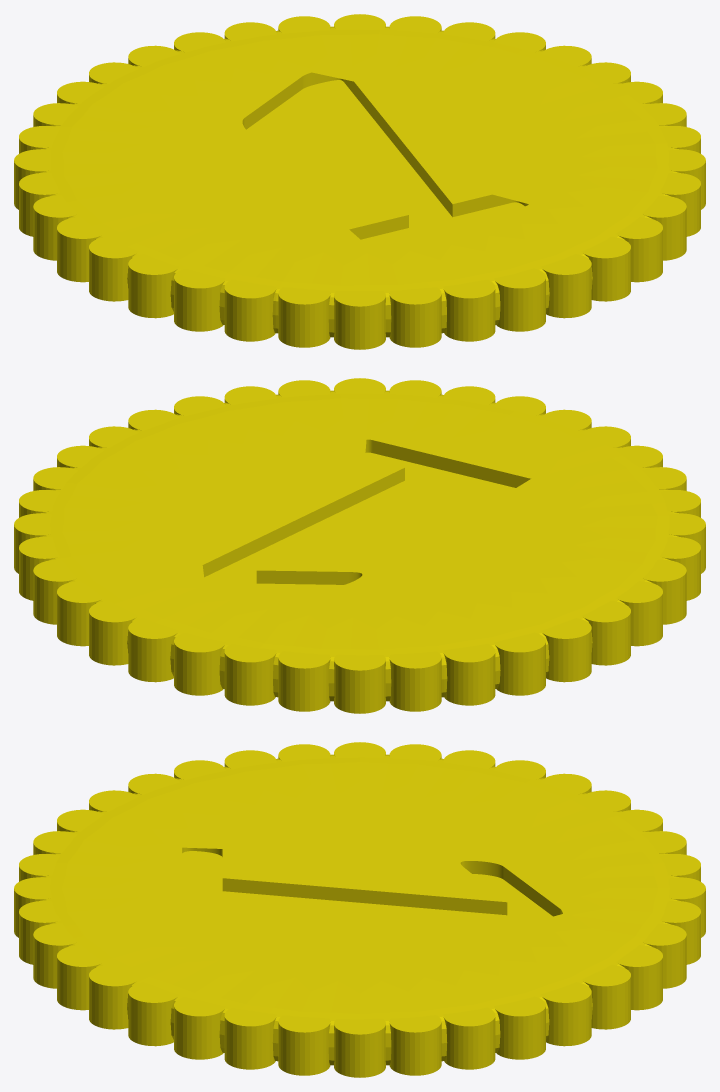
The model's file is Coin.fbx.
3 renders of one model, top to bottom at view 1: azimuth 30°, elevation 25°; view 2: azimuth 150°, elevation 25°; view 3: azimuth 270°, elevation 25°, orthographic.
Visible parts, largest first — view 1: Cylinder; view 2: Cylinder; view 3: Cylinder.
Part boxes in pixels (box(x1,y1,x2,y2)): Cylinder: box(14, 14, 705, 349); Cylinder: box(14, 378, 705, 713); Cylinder: box(14, 742, 705, 1077).
Size of the model in its own units: 34.75 by 2.47 by 34.75.
